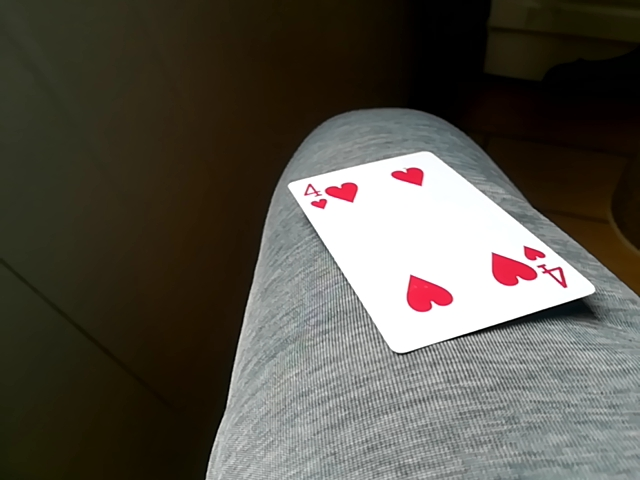hx 4: (283, 146, 596, 353)
